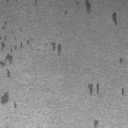red iron: (0, 20, 30, 108), (64, 0, 92, 16), (50, 40, 62, 56), (88, 82, 100, 96), (112, 11, 118, 26), (94, 120, 98, 128), (34, 0, 38, 7), (119, 57, 123, 64), (121, 87, 124, 96)
